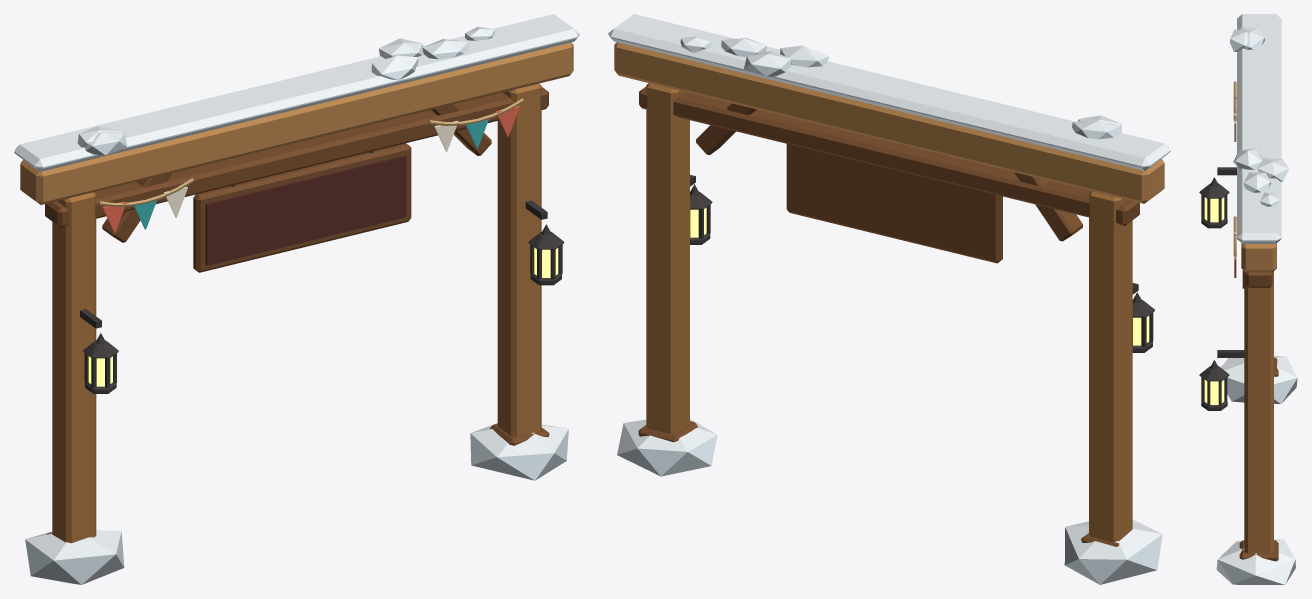
File: start_gate.glb
3 views of the same model, side by side, from view 1: azimuth 30°, elevation 25°; view 2: azimuth 150°, elevation 25°; view 3: azimuth 270°, elevation 25° (orthographic). The views are drawn at different scales.
Visible parts, largest first — view 1: start_gate; view 2: start_gate; view 3: start_gate.
Boxes of the visible parts, bbox=[...] form: start_gate: bbox=[14, 14, 579, 584]; start_gate: bbox=[608, 14, 1170, 584]; start_gate: bbox=[1199, 14, 1297, 584].
Size of the model in its own units: 3.55 by 2.84 by 0.659.
